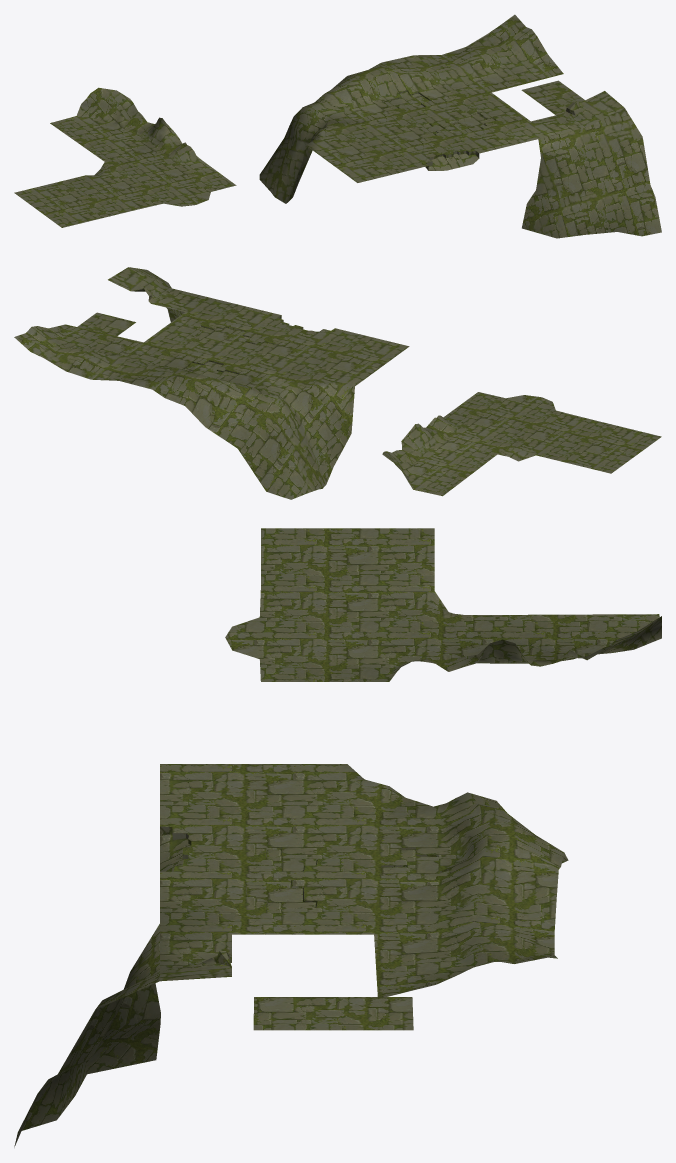
The model's file is f_1000_floor_t4m.FBX.
The picture shows the model from 3 angles, top to bottom: view 1: azimuth 30°, elevation 25°; view 2: azimuth 150°, elevation 25°; view 3: azimuth 270°, elevation 25°; orthographic projection. The views are drawn at different scales.
Parts seen in each view (by area): view 1: 1011_floor_t4m; view 2: 1011_floor_t4m; view 3: 1011_floor_t4m.
Boxes of the visible parts, <box> form: 1011_floor_t4m: <box>14,14,661,238</box>; 1011_floor_t4m: <box>14,267,661,499</box>; 1011_floor_t4m: <box>14,528,661,1147</box>.
Size of the model in its own units: 9116 by 1747 by 5256.
